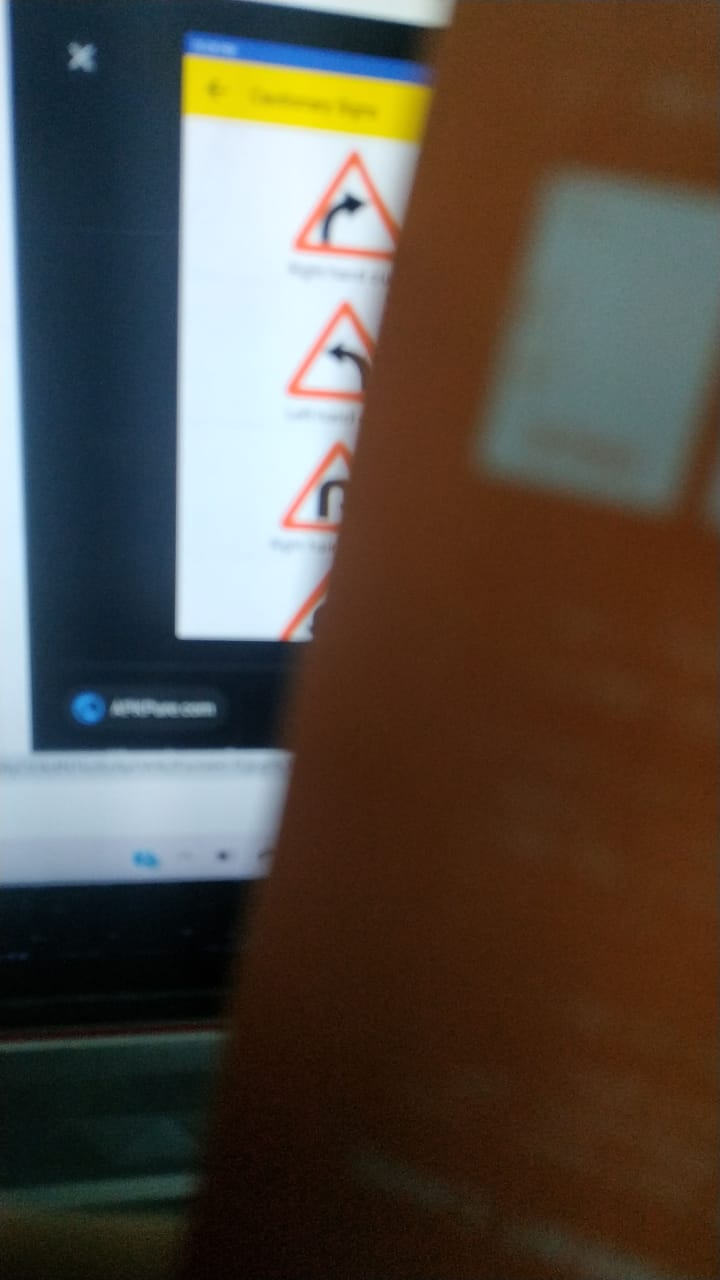LEFT CURVE: (272, 285, 431, 425)
RIGHT CURVE: (282, 103, 433, 268)
U-TURN: (264, 438, 416, 561)
